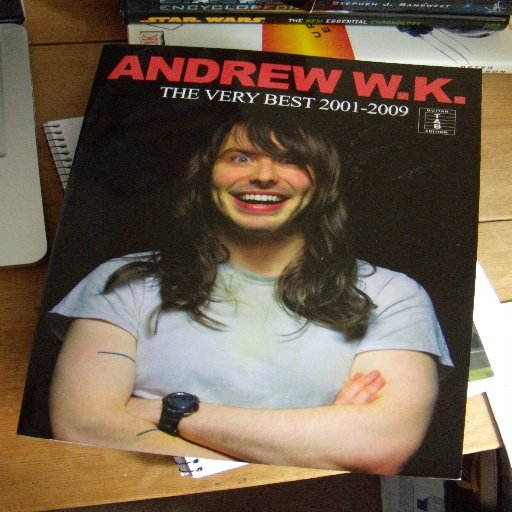hand: (343, 358, 399, 417), (121, 396, 160, 421)
